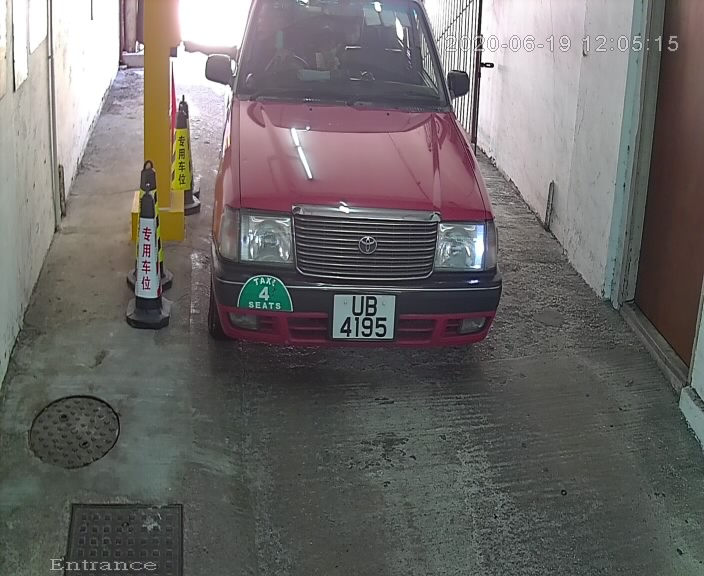taxi: (196, 2, 518, 383)
taxi_mark: (239, 270, 302, 320)
